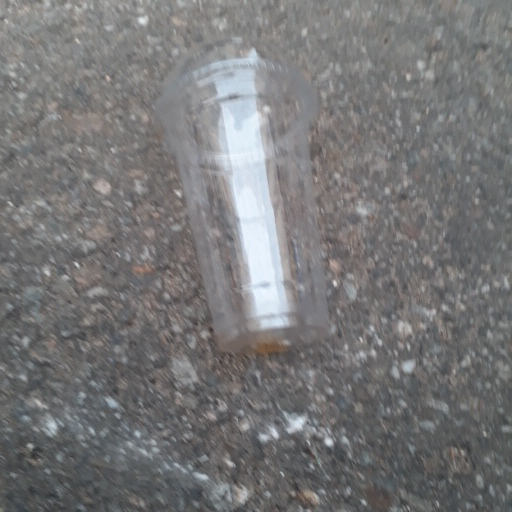Plastic_2: (158, 34, 331, 352)
